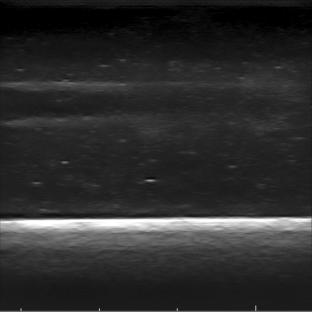vessel: (0, 81, 64, 133)
